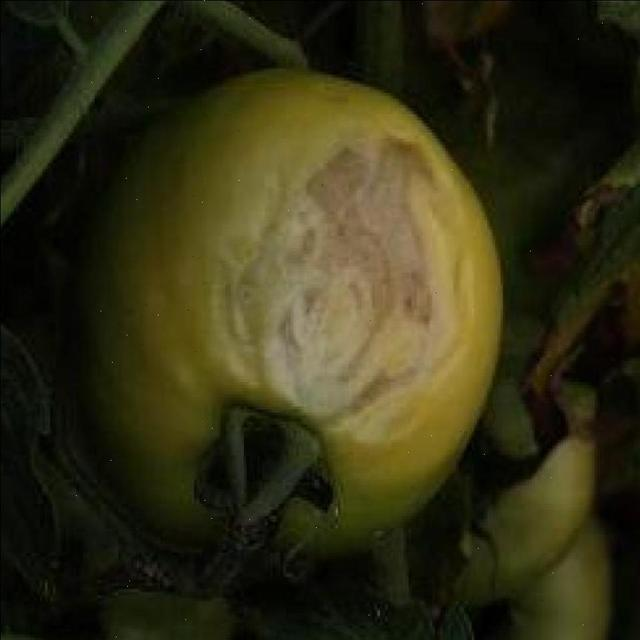Sunscald Fruit: (152, 85, 312, 286)
